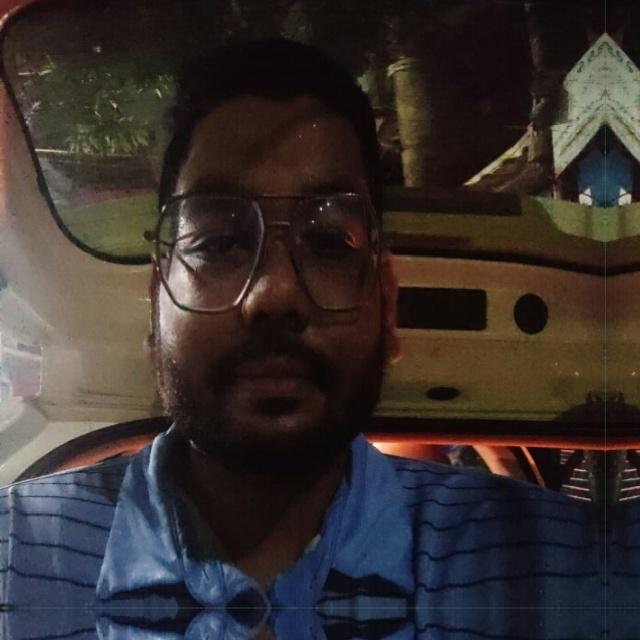Happy: (80, 100, 444, 506)
